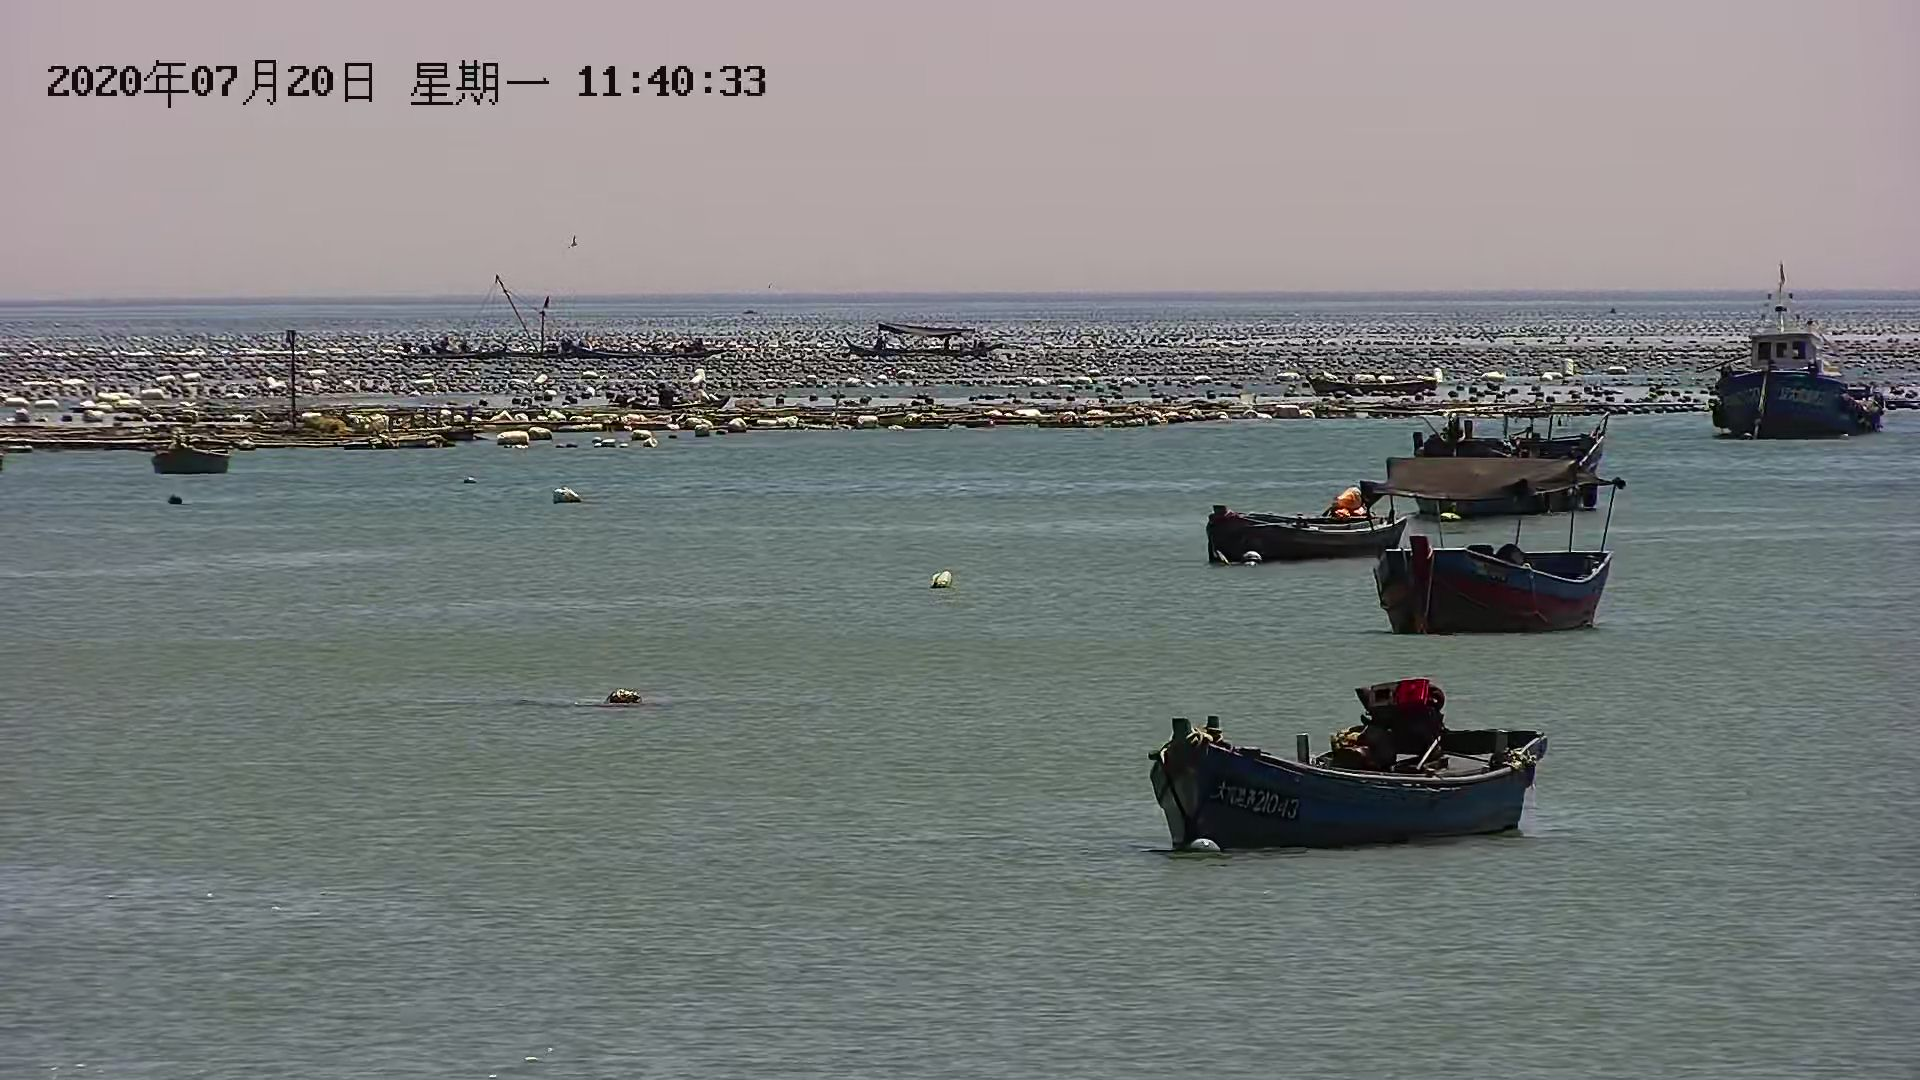boat: (1145, 679, 1553, 851), (1710, 281, 1878, 448), (1366, 417, 1615, 513), (1377, 524, 1606, 625), (1207, 489, 1411, 560), (833, 320, 1000, 364), (146, 425, 233, 483)
rubbish: (597, 682, 649, 705), (919, 567, 960, 593), (549, 483, 578, 505)
